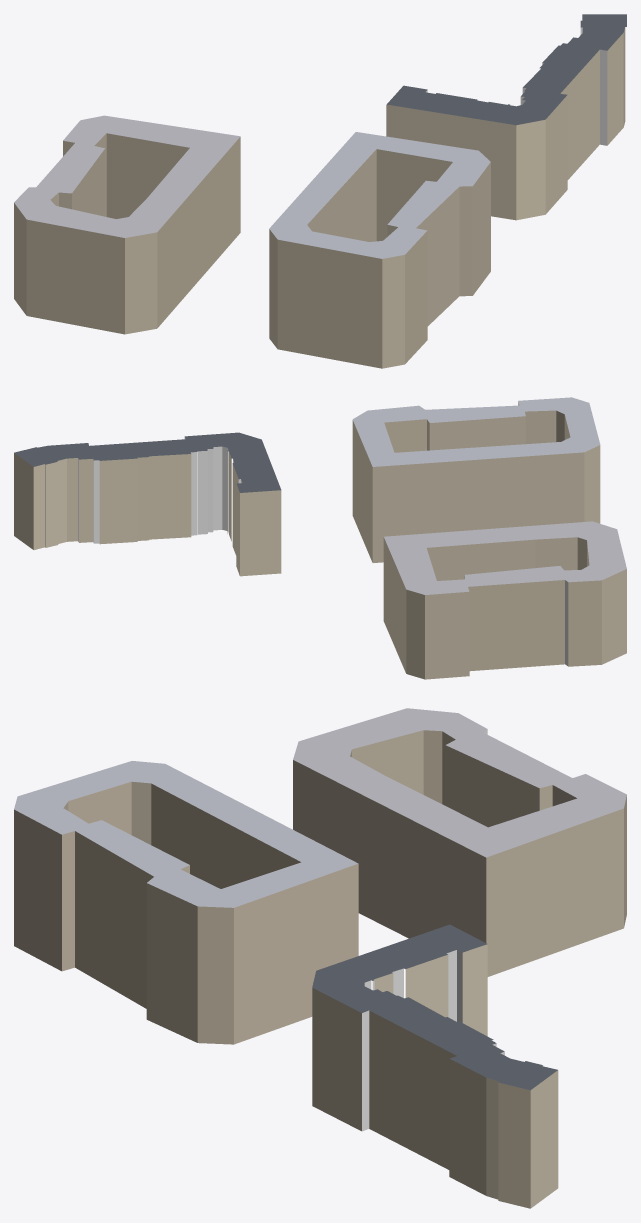
The picture shows the model from 3 angles, top to bottom: view 1: azimuth 30°, elevation 25°; view 2: azimuth 150°, elevation 25°; view 3: azimuth 270°, elevation 25°; orthographic projection. The views are drawn at different scales.
Visible parts, largest first — view 1: tuile; view 2: tuile; view 3: tuile.
Part boxes in pixels (x1,y1,x2,y2): tuile: (14, 14, 626, 368); tuile: (14, 397, 626, 679); tuile: (14, 708, 626, 1208).
Bounding box in the file's own units: 185 × 33.46 × 122.
